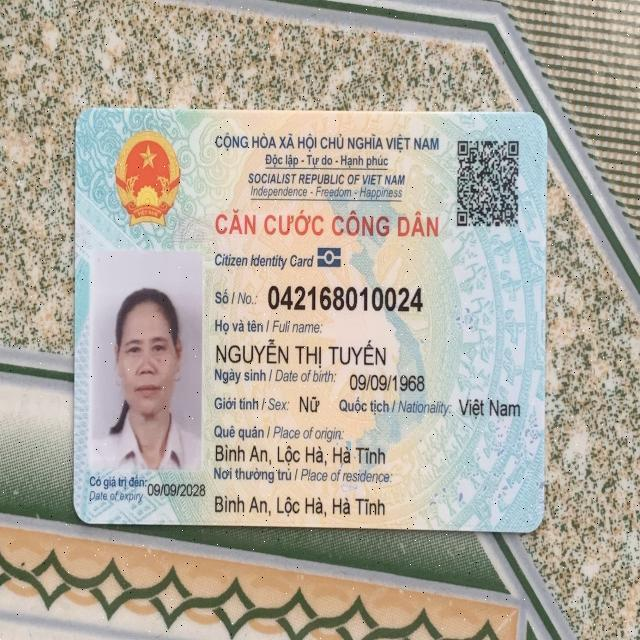current_place: (213, 491, 388, 519)
dob: (347, 372, 427, 396)
expire_date: (144, 479, 205, 498)
gender: (296, 392, 322, 413)
id: (266, 280, 425, 313)
name: (212, 337, 387, 370)
nationality: (455, 394, 523, 419)
origin_place: (214, 440, 385, 469)
